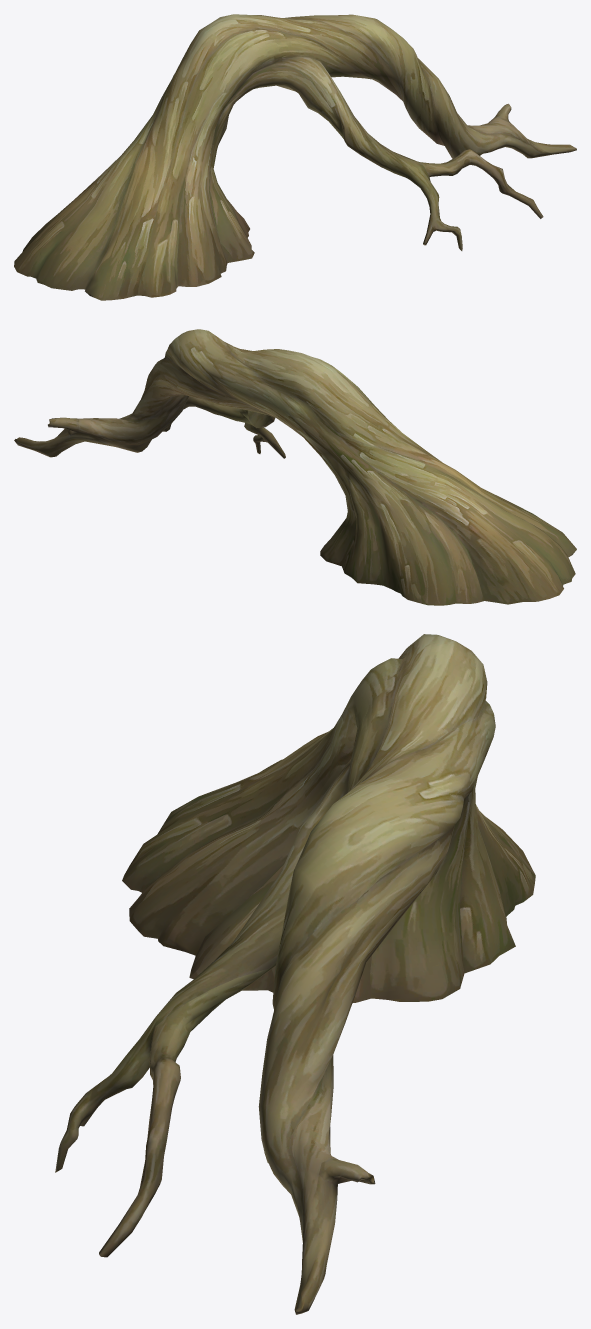
Rendered from Area_Xm_Stone_YTBL_Full_CaoShenGen_M_01.fbx.
3 renders of one model, top to bottom at view 1: azimuth 30°, elevation 25°; view 2: azimuth 150°, elevation 25°; view 3: azimuth 270°, elevation 25°, orthographic. The views are drawn at different scales.
Visible parts, largest first — view 1: Area_Xm_Stone_YTBL_Full_CaoShenGen_M_01_StoneTint_Lod0; view 2: Area_Xm_Stone_YTBL_Full_CaoShenGen_M_01_StoneTint_Lod0; view 3: Area_Xm_Stone_YTBL_Full_CaoShenGen_M_01_StoneTint_Lod0.
Boxes of the visible parts, x1,y1,x2,y2 form: Area_Xm_Stone_YTBL_Full_CaoShenGen_M_01_StoneTint_Lod0: (14,14,576,300); Area_Xm_Stone_YTBL_Full_CaoShenGen_M_01_StoneTint_Lod0: (14,329,576,605); Area_Xm_Stone_YTBL_Full_CaoShenGen_M_01_StoneTint_Lod0: (55,634,535,1314).
Bounding box in the file's own units: 48.3 × 16.88 × 18.56.
Materials: 1 (1 with a texture image).
